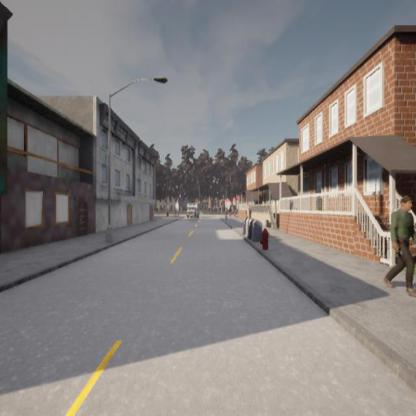person: (380, 197, 416, 293)
